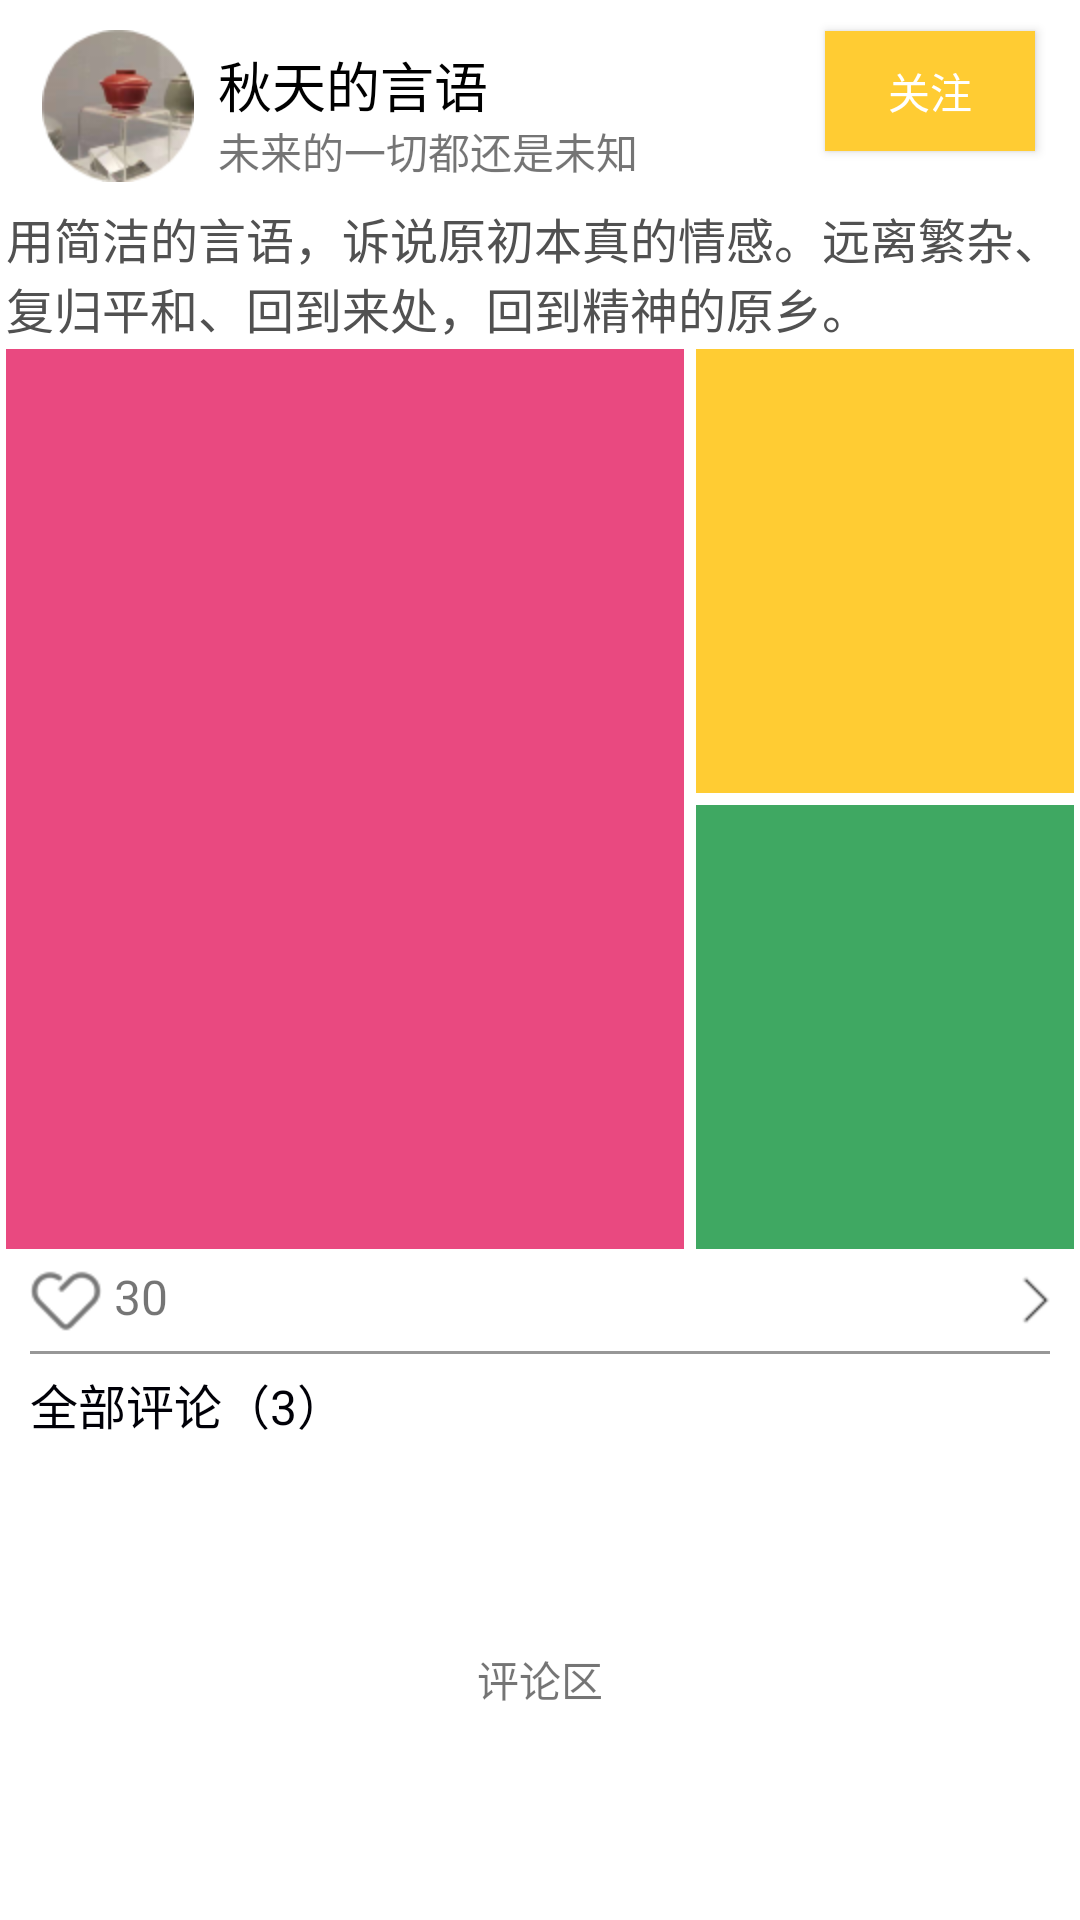

Named icons in this screenshot (1080px×1920px) and their bounding boxes, (x1, y1, x2, y2):
arrow right: (1023, 1278, 1049, 1323)
